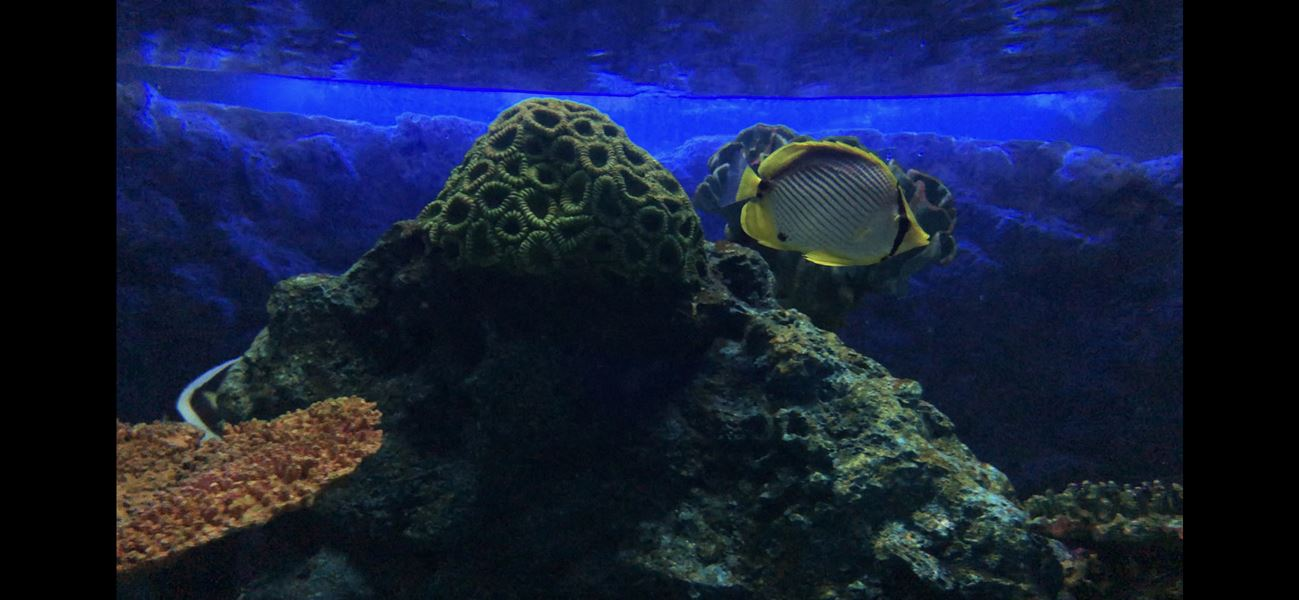Black-backed butterflyfish: (709, 128, 942, 279)
